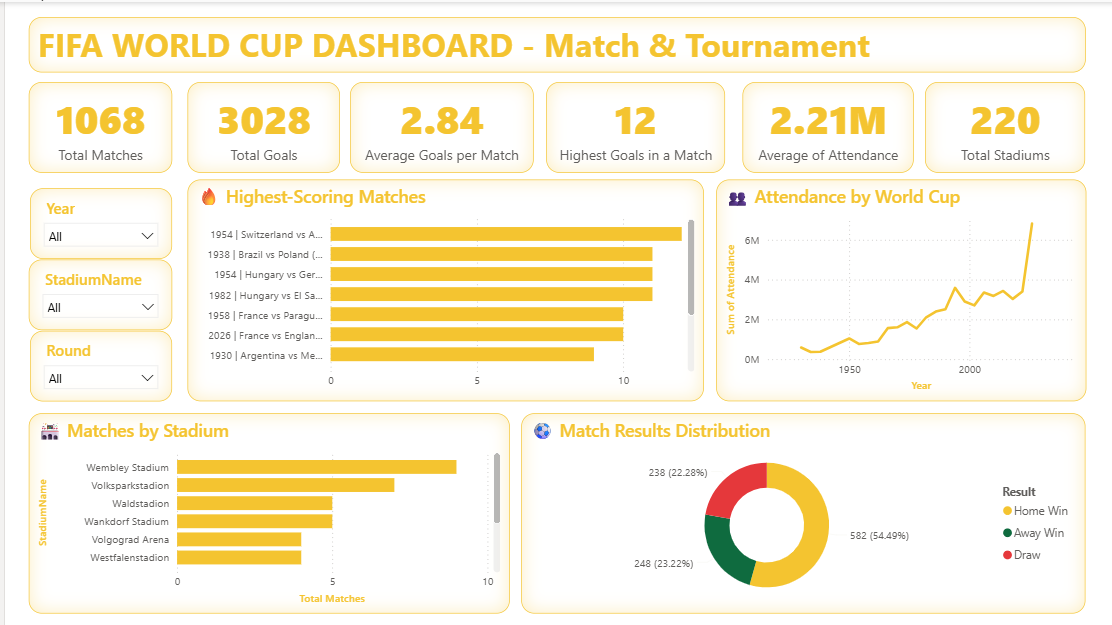

The page's visual inventory and layout, read from the dashboard file:
{"tool":"powerbi","page":{"name":"Match & Tournament Analysis","canvas":[1280,720],"ordinal":2},"visuals":[{"type":"slicer","fields":{"Values":["DimWorldCup.Year"]},"box":[28.5,215.4,163.7,81.9],"z":0},{"type":"slicer","fields":{"Values":["DimStadium.StadiumName"]},"box":[26.7,297.2,165.5,81.9],"z":1000},{"type":"slicer","fields":{"Values":["FactMatch.Round"]},"box":[28.5,379.1,163.7,81.9],"z":2000},{"type":"card","fields":{"Values":["DimReferee.Total Goals"]},"box":[210,92.5,176.2,105],"z":3000},{"type":"card","fields":{"Values":["DimReferee.Average Goals per Match"]},"box":[398.7,92.5,211.8,105],"z":4000},{"type":"card","fields":{"Values":["DimReferee.Total Matches"]},"box":[26.7,92.5,165.5,105],"z":5000},{"type":"card","fields":{"Values":["DimReferee.Highest Goals in a Match"]},"box":[624.7,92.5,206.5,105],"z":6000},{"type":"card","fields":{"Values":["Avg(DimWorldCup.Attendance)"]},"box":[850.7,92.5,197.6,105],"z":7000},{"type":"card","fields":{"Values":["DimReferee.Total Stadiums"]},"box":[1062.5,92.5,185.1,105],"z":8000},{"type":"clusteredBarChart","title":"🔥 Highest-Scoring Matches","fields":{"Category":["FactMatch.Match Label"],"Y":["DimReferee.Match Goals"]},"box":[210,204.7,596.2,256.3],"z":10000},{"type":"clusteredBarChart","title":"🏟️ Matches by Stadium","fields":{"Category":["DimStadium.StadiumName"],"Y":["DimReferee.Total Matches"]},"box":[26.7,475.2,555.3,231.4],"z":11000},{"type":"lineChart","title":"👥 Attendance by World Cup","fields":{"Category":["DimWorldCup.Year"],"Y":["Sum(DimWorldCup.Attendance)"]},"box":[820.5,204.7,427.1,256.3],"z":12000},{"type":"donutChart","title":"⚽ Match Results Distribution","fields":{"Category":["MatchResult.Result"],"Y":["DimReferee.Match Result Count"]},"box":[596.2,475.2,651.4,231.4],"z":13000},{"type":"textbox","title":"FIFA WORLD CUP DASHBOARD - Match & Tournament","box":[28,17,1220,64],"z":13001}]}

Visuals, with their boxes in screenshot pixels (x1, y1, x2, y2), scaled from the page's 1280x720 canvas onto the 1112x625 screenshot:
slicer - DimWorldCup.Year: bbox=[25, 187, 167, 258]
slicer - DimStadium.StadiumName: bbox=[23, 258, 167, 329]
slicer - FactMatch.Round: bbox=[25, 329, 167, 400]
card - DimReferee.Total Goals: bbox=[182, 80, 336, 171]
card - DimReferee.Average Goals per Match: bbox=[346, 80, 530, 171]
card - DimReferee.Total Matches: bbox=[23, 80, 167, 171]
card - DimReferee.Highest Goals in a Match: bbox=[543, 80, 722, 171]
card - Avg(DimWorldCup.Attendance): bbox=[739, 80, 911, 171]
card - DimReferee.Total Stadiums: bbox=[923, 80, 1084, 171]
"🔥 Highest-Scoring Matches" clusteredBarChart: bbox=[182, 178, 700, 400]
"🏟️ Matches by Stadium" clusteredBarChart: bbox=[23, 412, 506, 613]
"👥 Attendance by World Cup" lineChart: bbox=[713, 178, 1084, 400]
"⚽ Match Results Distribution" donutChart: bbox=[518, 412, 1084, 613]
"FIFA WORLD CUP DASHBOARD - Match & Tournament" textbox: bbox=[24, 15, 1084, 70]
